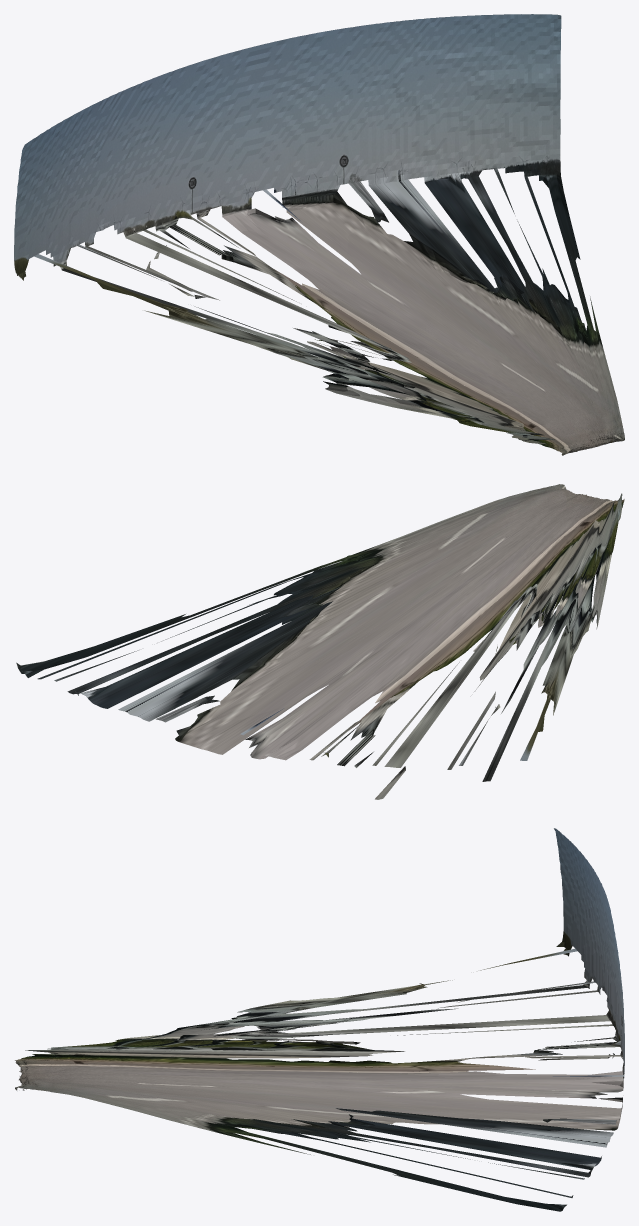
3 renders of one model, top to bottom at view 1: azimuth 30°, elevation 25°; view 2: azimuth 150°, elevation 25°; view 3: azimuth 270°, elevation 25°, orthographic. The views are drawn at different scales.
Parts seen in each view (by area): view 1: defaultobject; view 2: defaultobject; view 3: defaultobject.
Boxes of the visible parts, x1,y1,x2,y2 form: defaultobject: [14, 14, 624, 455]; defaultobject: [16, 484, 624, 799]; defaultobject: [15, 828, 624, 1211].
Bounding box in the file's own units: 41.16 × 13.9 × 44.61.
Materials: 1 (1 with a texture image).
